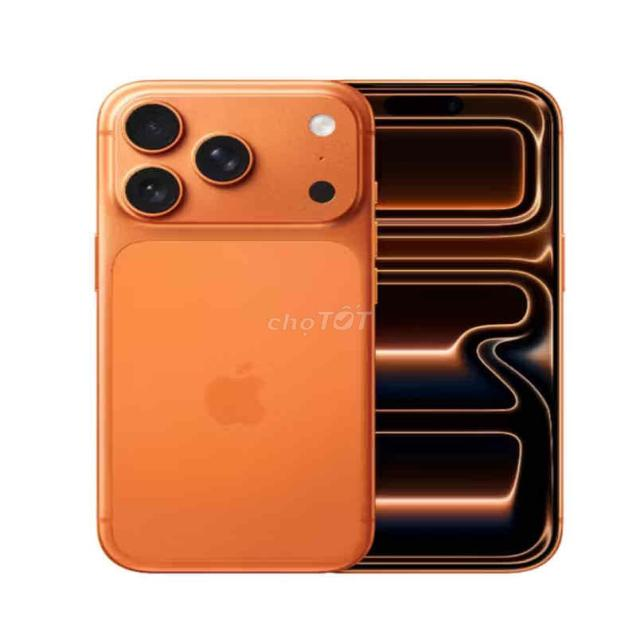gen_17: (92, 79, 377, 577)
